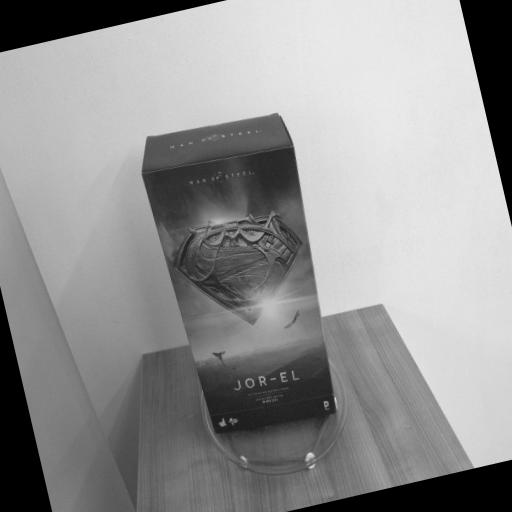superman: (135, 106, 354, 446)
